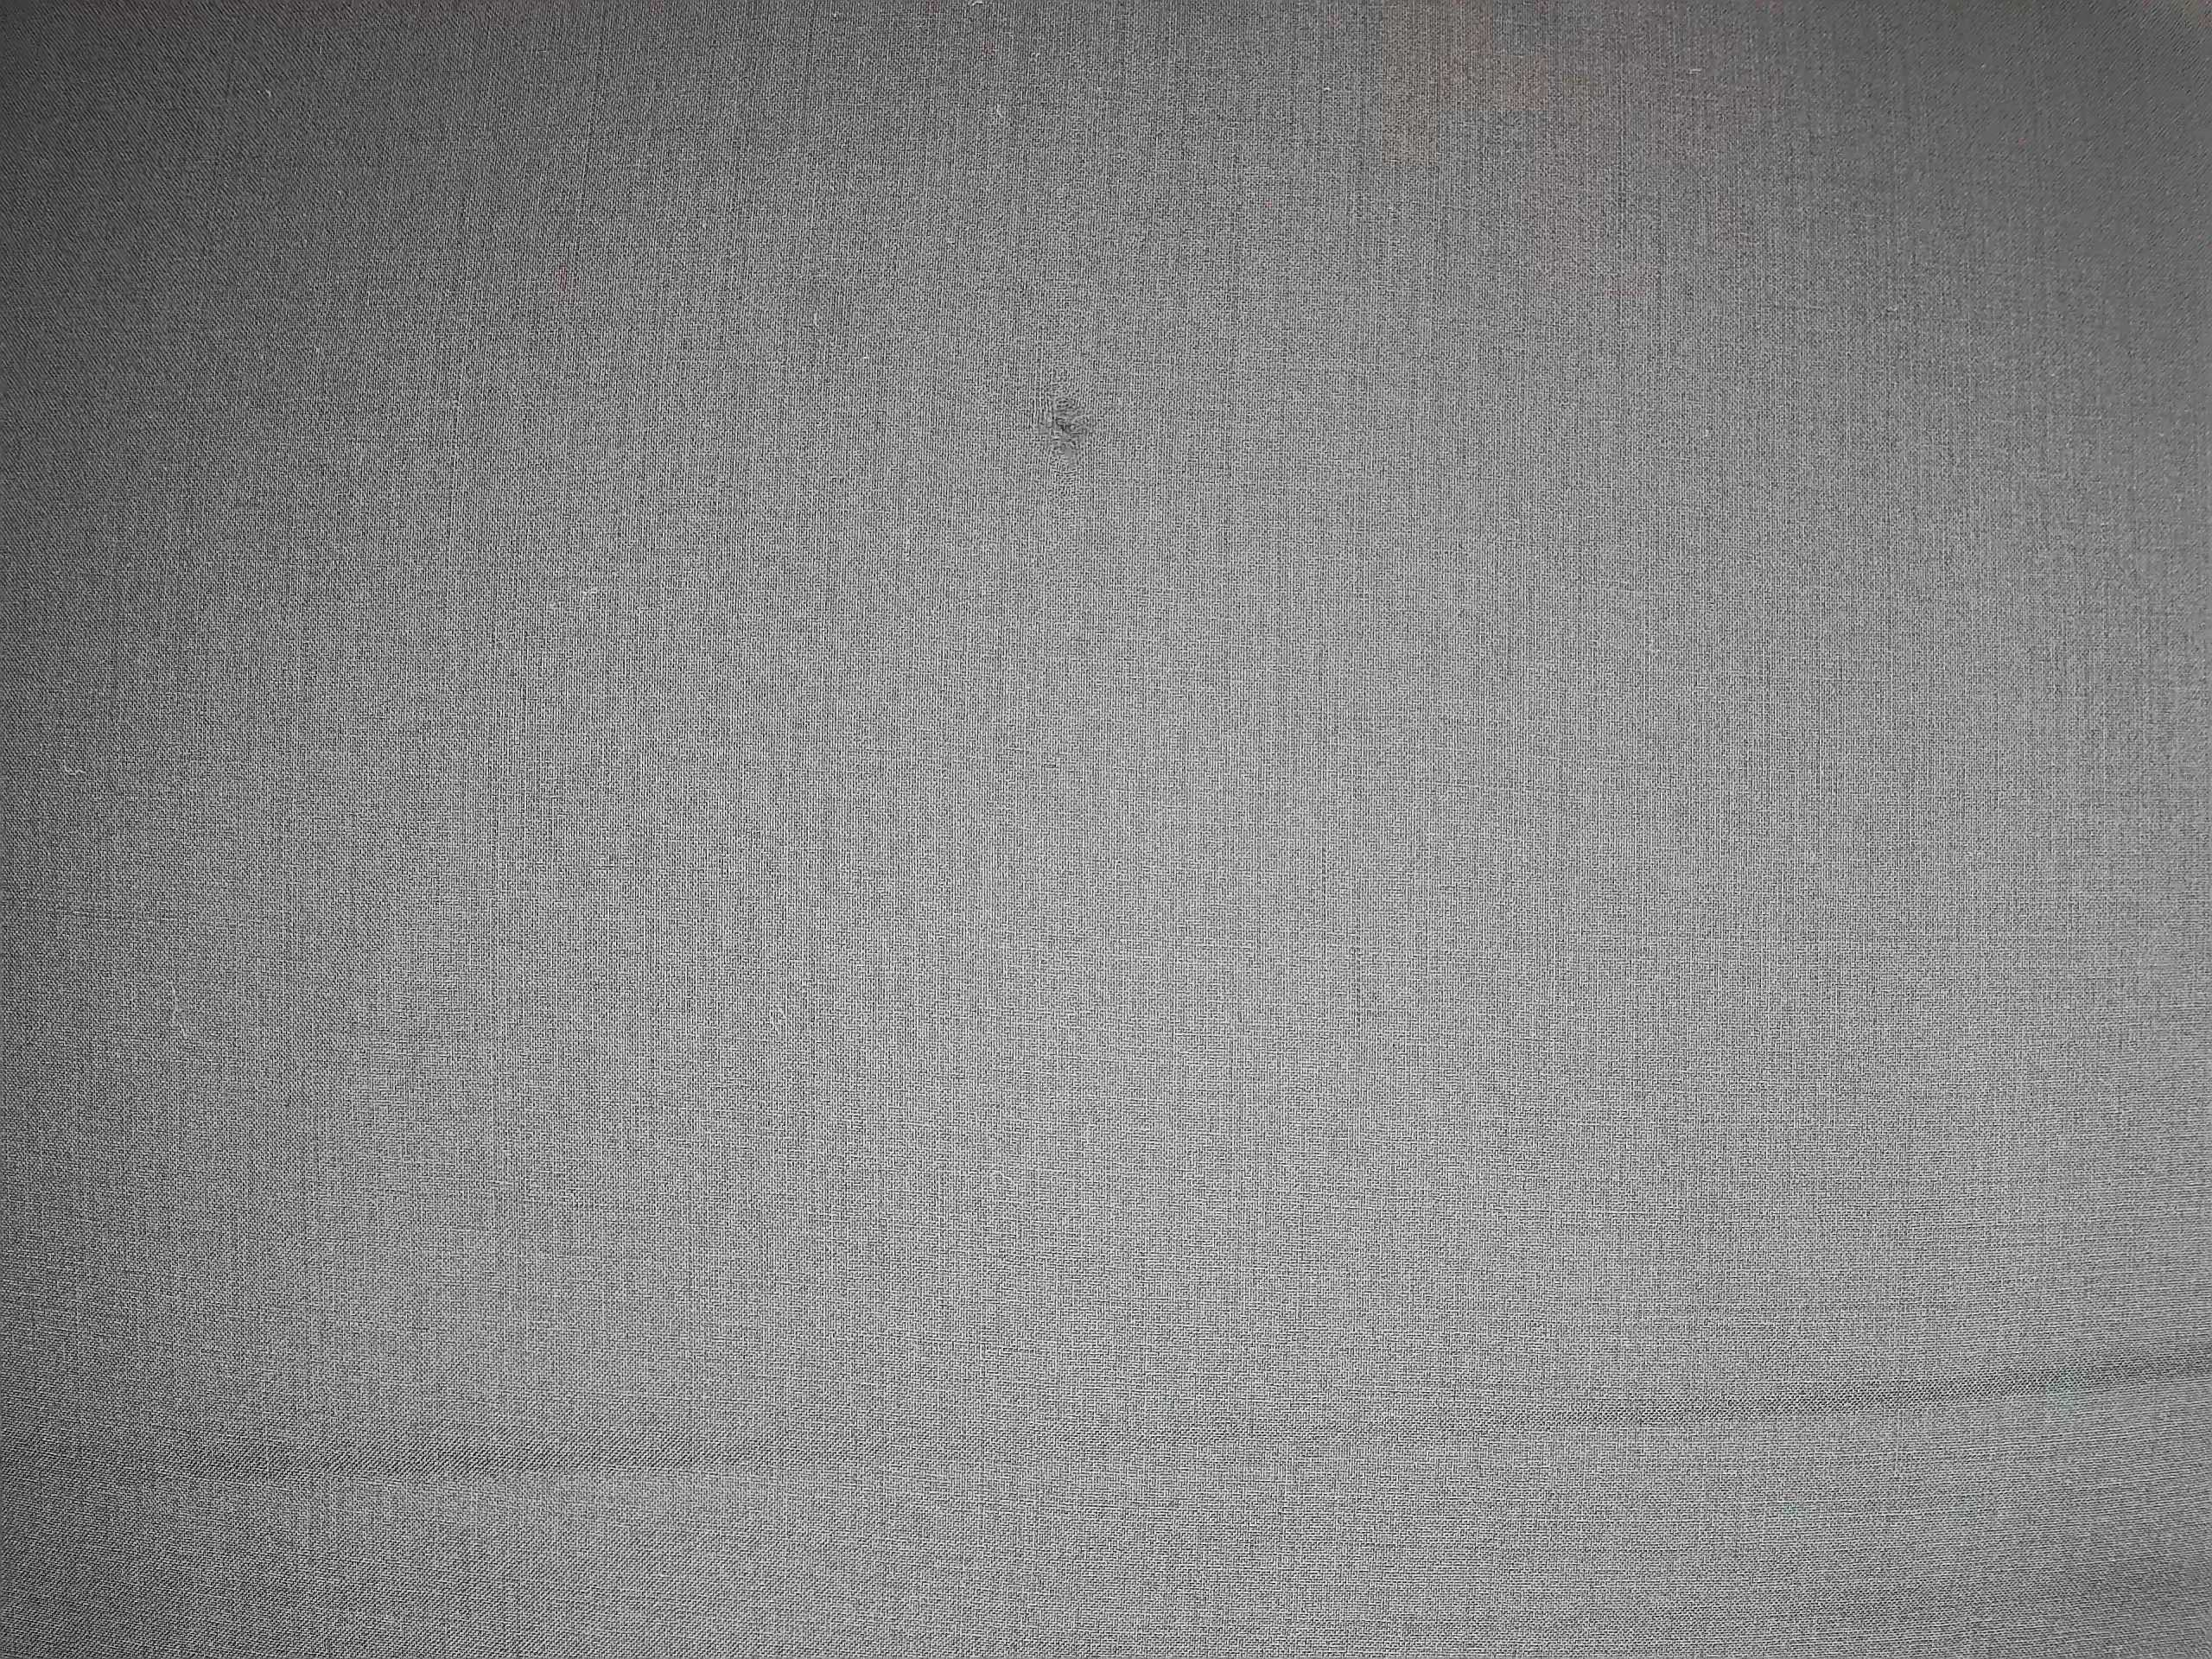brushed-hole: (1031, 375, 1109, 465)
